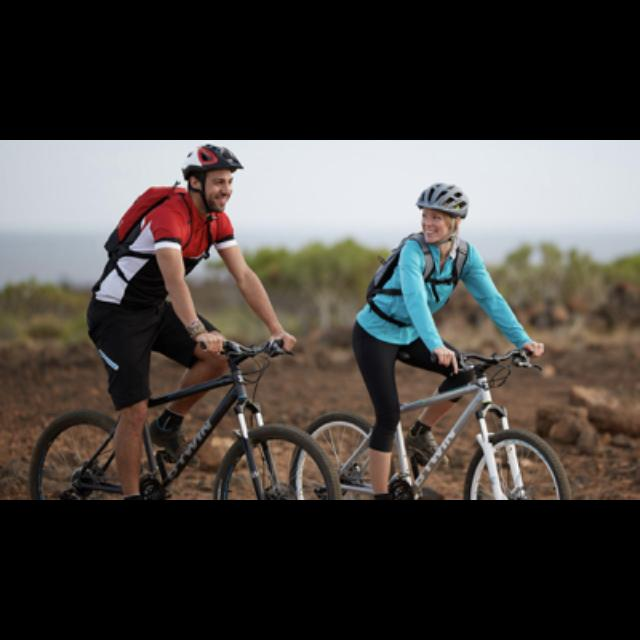With Helmet: (170, 143, 254, 215), (411, 170, 475, 258)
